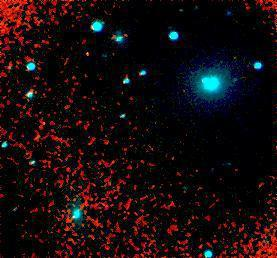star: (220, 66, 250, 96)
